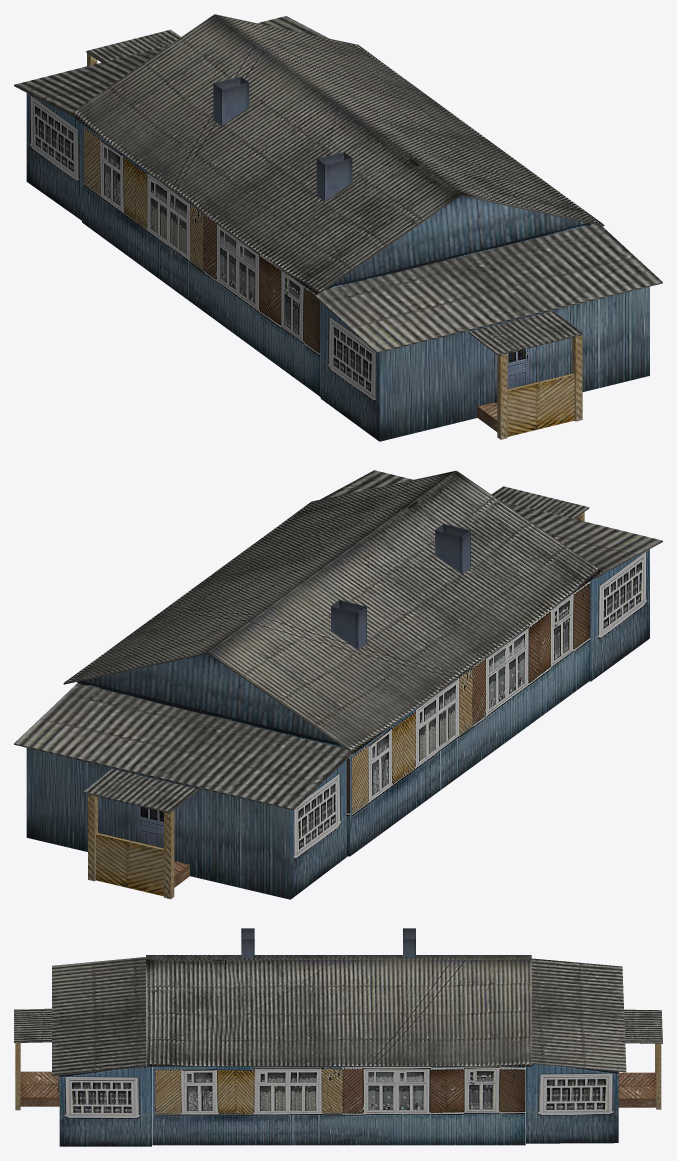
Rendered from d_dom_1et_47.FBX.
The picture shows the model from 3 angles, top to bottom: view 1: azimuth 30°, elevation 25°; view 2: azimuth 150°, elevation 25°; view 3: azimuth 270°, elevation 25°; orthographic projection. The views are drawn at different scales.
Parts seen in each view (by area): view 1: d_dom_1et_47; view 2: d_dom_1et_47; view 3: d_dom_1et_47.
Part boxes in pixels (x1,y1,x2,y2): d_dom_1et_47: (14,14,662,441); d_dom_1et_47: (14,470,662,899); d_dom_1et_47: (14,928,662,1146).
Size of the model in its own units: 10.99 by 27.32 by 6.44.
